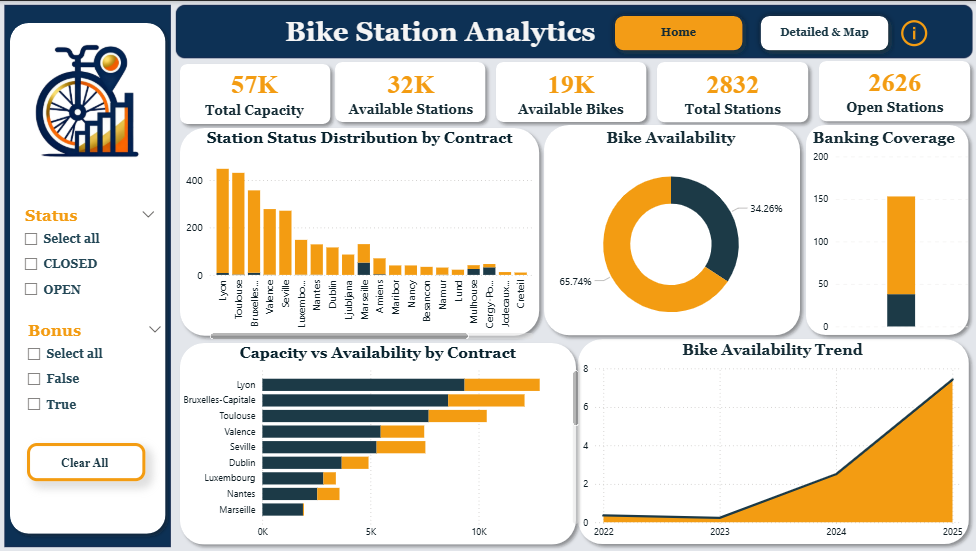

The page's visual inventory and layout, read from the dashboard file:
{"tool":"powerbi","page":{"name":"Home","canvas":[1280,720],"ordinal":0},"visuals":[{"type":"image","title":"Pannel bg","box":[0,0,231.7,720],"z":0,"group":"g3"},{"type":"image","box":[226.2,0,1053.3,80],"z":0,"group":"g5"},{"type":"group","id":"g1","title":"Cards","box":[228.3,64.8,1052.1,104.2],"z":0},{"type":"shape","box":[1064.4,69.2,216,97],"z":0,"group":"g1"},{"type":"shape","title":"Shape","box":[1048,153,231,293],"z":0,"group":"g4"},{"type":"slicer","title":"Bonus","fields":{"Values":["Bike_Station_DB.Bonus"]},"box":[16.6,413.3,208.3,148.3],"z":0,"group":"g6"},{"type":"shape","box":[749.8,433.3,529.8,286.7],"z":0,"group":"g2"},{"type":"shape","box":[227.1,0,700,80],"z":1000,"group":"g5"},{"type":"shape","box":[5,20,221.7,686.7],"z":1000,"group":"g3"},{"type":"card","fields":{"Values":["Meaures.Open Station"]},"box":[1076.1,64.8,194,97],"z":1000,"group":"g1"},{"type":"columnChart","title":"Banking Coverage","fields":{"Y":["Meaures.Banking Enabled","Meaures.Non-Banking"]},"box":[1060.5,167.2,213.3,272.5],"z":1000,"group":"g4"},{"type":"slicer","title":"Bonus","fields":{"Values":["Bike_Station_DB.Status"]},"box":[13.3,263.3,203.3,148.3],"z":1000,"group":"g6"},{"type":"group","id":"g2","title":"bottom","box":[228.3,433.3,1051.3,286.7],"z":1000},{"type":"lineChart","title":"Bike Availability Trend","fields":{"Y":["Avg(Bike_Station_DB.Available Bikes)"],"Category":["Bike_Station_DB.Last Update.Variation.Date Hierarchy.Year"]},"box":[760.2,445.1,506.9,267.4],"z":1000,"group":"g2"},{"type":"pageNavigator","box":[796.6,10,376.7,63.3],"z":1500,"group":"g5"},{"type":"group","id":"g3","title":"Pannel","box":[0,0,231.7,720],"z":2000},{"type":"actionButton","box":[1175,20,48.3,45],"z":2000,"group":"g5"},{"type":"image","title":"Logo","box":[16.7,31.7,196.7,198.3],"z":2000,"group":"g3"},{"type":"shape","box":[852.8,70.7,216,97],"z":2000,"group":"g1"},{"type":"shape","box":[704.4,152.8,353.3,293.3],"z":2000,"group":"g4"},{"type":"shape","box":[228.3,438,536.5,282],"z":2000,"group":"g2"},{"type":"card","fields":{"Values":["Meaures.Total Stations"]},"box":[864.5,67.7,194,97],"z":3000,"group":"g1"},{"type":"group","id":"g4","title":"Upper","box":[228.3,152.8,1050.7,295],"z":3000},{"type":"donutChart","title":" Bike Availability","fields":{"Y":["Meaures.Available bikes","Meaures.Bikes in Use"]},"box":[713.3,167.8,335,280],"z":3000,"group":"g4"},{"type":"barChart","title":"Capacity vs Availability by Contract","fields":{"Category":["Dim_Contract.Dim_Contract_Name"],"Y":["Meaures.Total Capacity","Meaures.Available bikes"]},"box":[228.3,449.5,536.3,264.5],"z":3000,"group":"g2"},{"type":"actionButton","title":"Clear all Filters","box":[36.7,578.3,155,50],"z":3000,"group":"g3"},{"type":"group","id":"g5","title":"Tile","box":[226.2,0,1053.3,80],"z":4000},{"type":"shape","box":[641.6,70.7,215,96.6],"z":4000,"group":"g1"},{"type":"shape","box":[228.3,156.1,488.3,290],"z":4000,"group":"g4"},{"type":"group","id":"g6","title":"slicer","box":[13.3,263.3,211.7,298.3],"z":4000,"group":"g3"},{"type":"card","fields":{"Values":["Meaures.Available bikes"]},"box":[653,67.7,194,97],"z":5000,"group":"g1"},{"type":"columnChart","title":"Station Status Distribution by Contract","fields":{"Category":["Dim_Contract.Dim_Contract_Name"],"Y":["Meaures.Closed Stations","Meaures.Open Station"]},"box":[240,167.8,465,280],"z":5000,"group":"g4"},{"type":"shape","box":[431.6,70.7,215,96.6],"z":6000,"group":"g1"},{"type":"card","fields":{"Values":["Meaures.Available station"]},"box":[442.8,67.7,194,97],"z":7000,"group":"g1"},{"type":"shape","box":[228.3,72.4,215,96.6],"z":8000,"group":"g1"},{"type":"card","fields":{"Values":["Meaures.Total Capacity"]},"box":[238.6,67.7,192.5,98.4],"z":9000,"group":"g1"}]}

Visuals, with their boxes in screenshot pixels (x1, y1, x2, y2), scaled from the page's 1280x720 canvas onto the 976x551 screenshot:
"Pannel bg" image: 0, 0, 177, 550
image: 172, 0, 975, 61
"Cards" group: 174, 50, 975, 129
shape: 812, 53, 975, 127
"Shape" shape: 799, 117, 975, 341
"Bonus" slicer: 13, 316, 171, 430
shape: 572, 332, 975, 550
shape: 173, 0, 707, 61
shape: 4, 15, 173, 541
card - Meaures.Open Station: 821, 50, 968, 124
"Banking Coverage" columnChart: 809, 128, 971, 336
"Bonus" slicer: 10, 201, 165, 315
"bottom" group: 174, 332, 975, 550
"Bike Availability Trend" lineChart: 580, 341, 966, 545
pageNavigator: 607, 8, 895, 56
"Pannel" group: 0, 0, 177, 550
actionButton: 896, 15, 933, 50
"Logo" image: 13, 24, 163, 176
shape: 650, 54, 815, 128
shape: 537, 117, 806, 341
shape: 174, 335, 583, 550
card - Meaures.Total Stations: 659, 52, 807, 126
"Upper" group: 174, 117, 975, 343
" Bike Availability" donutChart: 544, 128, 799, 343
"Capacity vs Availability by Contract" barChart: 174, 344, 583, 546
"Clear all Filters" actionButton: 28, 443, 146, 481
"Tile" group: 172, 0, 975, 61
shape: 489, 54, 653, 128
shape: 174, 119, 546, 341
"slicer" group: 10, 201, 172, 430
card - Meaures.Available bikes: 498, 52, 646, 126
"Station Status Distribution by Contract" columnChart: 183, 128, 538, 343
shape: 329, 54, 493, 128
card - Meaures.Available station: 338, 52, 486, 126
shape: 174, 55, 338, 129
card - Meaures.Total Capacity: 182, 52, 329, 127
